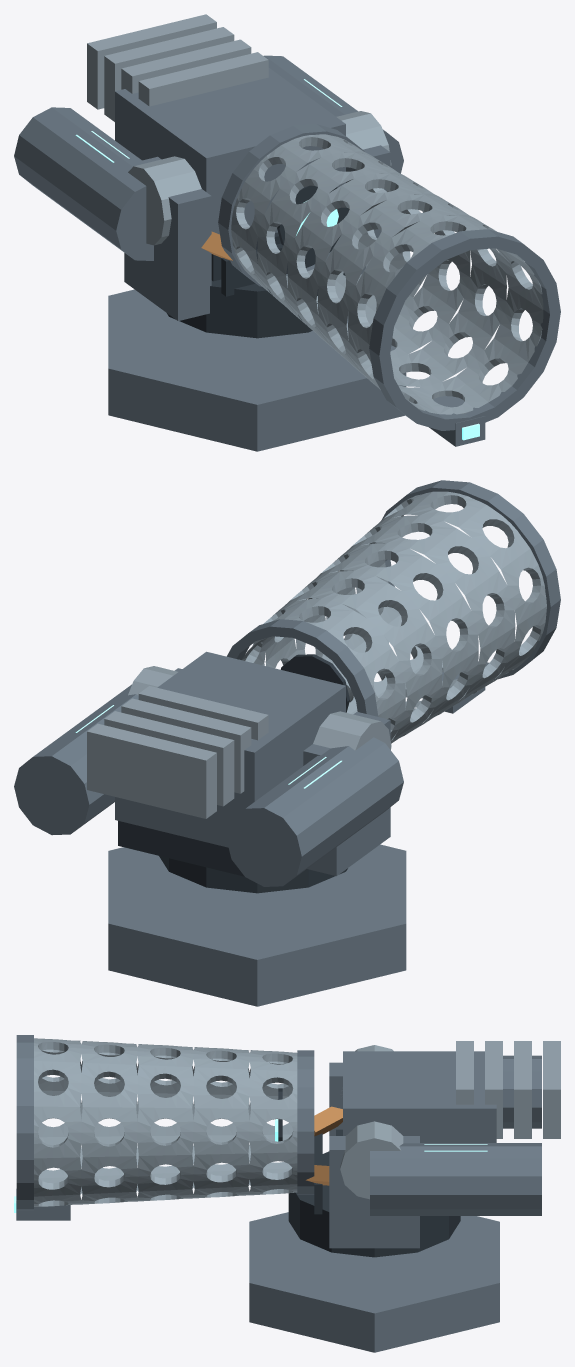
Rendered from plasma_t3.glb.
The picture shows the model from 3 angles, top to bottom: view 1: azimuth 30°, elevation 25°; view 2: azimuth 150°, elevation 25°; view 3: azimuth 270°, elevation 25°; orthographic projection. The views are drawn at different scales.
Parts seen in each view (by area): view 1: PERFORATED_NOZZLE, Ground plinth, Breech, Pressure reservoir (×2), Nozzle reinforcing lip (×2), Capacitor (×4), Cradle, Elevation motor (×2), Bearing, Pilot housing, Heat exchanger fin, Recessed combustion core; view 2: PERFORATED_NOZZLE, Ground plinth, Pressure reservoir (×2), Capacitor (×4), Breech, Nozzle reinforcing lip (×2), Heat exchanger fin, Elevation motor (×2), Cradle, Bearing, Recessed combustion core; view 3: PERFORATED_NOZZLE, Ground plinth, Pressure reservoir (×2), Breech, Capacitor (×4), Nozzle reinforcing lip (×2), Cradle (×2), Bearing, Elevation motor, Pilot housing, Insulated feed pipe armor, Heat exchanger fin.
Boxes of the visible parts, box(x1,y1,x2,y2) form: PERFORATED_NOZZLE: box(231, 134, 543, 414); Ground plinth: box(108, 289, 406, 451); Breech: box(115, 68, 345, 234); Pressure reservoir (×2): box(14, 55, 403, 260); Nozzle reinforcing lip (×2): box(218, 124, 560, 430); Capacitor (×4): box(87, 14, 268, 121); Cradle: box(124, 156, 211, 320); Elevation motor (×2): box(128, 111, 391, 245); Bearing: box(167, 272, 345, 338); Pilot housing: box(429, 396, 485, 446); Heat exchanger fin: box(221, 243, 335, 296); Recessed combustion core: box(277, 185, 349, 256); PERFORATED_NOZZLE: box(239, 491, 546, 743); Ground plinth: box(108, 844, 406, 1006); Pressure reservoir (×2): box(14, 684, 403, 886); Capacitor (×4): box(87, 686, 268, 818); Breech: box(115, 651, 345, 847); Nozzle reinforcing lip (×2): box(227, 480, 560, 716); Heat exchanger fin: box(118, 821, 244, 876); Elevation motor (×2): box(128, 666, 391, 750); Cradle: box(303, 712, 390, 876); Bearing: box(159, 856, 347, 893); Recessed combustion core: box(281, 654, 349, 712); PERFORATED_NOZZLE: box(34, 1038, 297, 1206); Ground plinth: box(249, 1212, 499, 1352); Pressure reservoir (×2): box(370, 1055, 541, 1215); Breech: box(343, 1051, 496, 1142); Capacitor (×4): box(456, 1041, 560, 1138); Nozzle reinforcing lip (×2): box(16, 1035, 314, 1210); Cradle (×2): box(329, 1062, 419, 1248); Bearing: box(288, 1151, 460, 1257); Elevation motor: box(340, 1121, 403, 1199); Pilot housing: box(16, 1189, 70, 1220); Insulated feed pipe armor: box(314, 1106, 342, 1136); Heat exchanger fin: box(314, 1133, 322, 1214).
Bounding box in the file's own units: 1.6 × 1.52 × 3.02.
